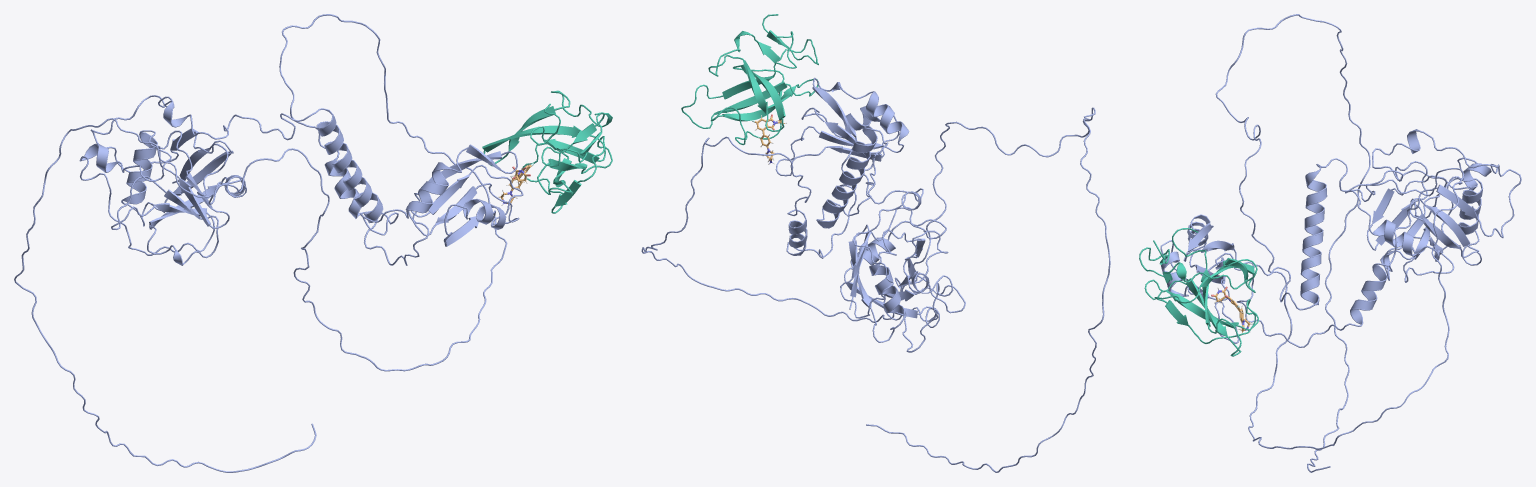
The picture shows the model from 3 angles, left to right: view 1: azimuth 30°, elevation 25°; view 2: azimuth 150°, elevation 25°; view 3: azimuth 270°, elevation 25°; orthographic projection. The views are drawn at different scales.
Visible parts, largest first — view 1: node-geom95, node-geom96; view 2: node-geom95, node-geom96; view 3: node-geom95, node-geom96.
Part boxes in pixels (x1,y1,x2,y2): node-geom95: (79, 90, 612, 265); node-geom96: (14, 14, 523, 472); node-geom95: (681, 14, 965, 352); node-geom96: (641, 77, 1110, 472); node-geom95: (1139, 129, 1521, 356); node-geom96: (1160, 14, 1464, 472).
Bounding box in the file's own units: 143 × 103 × 95.12.
